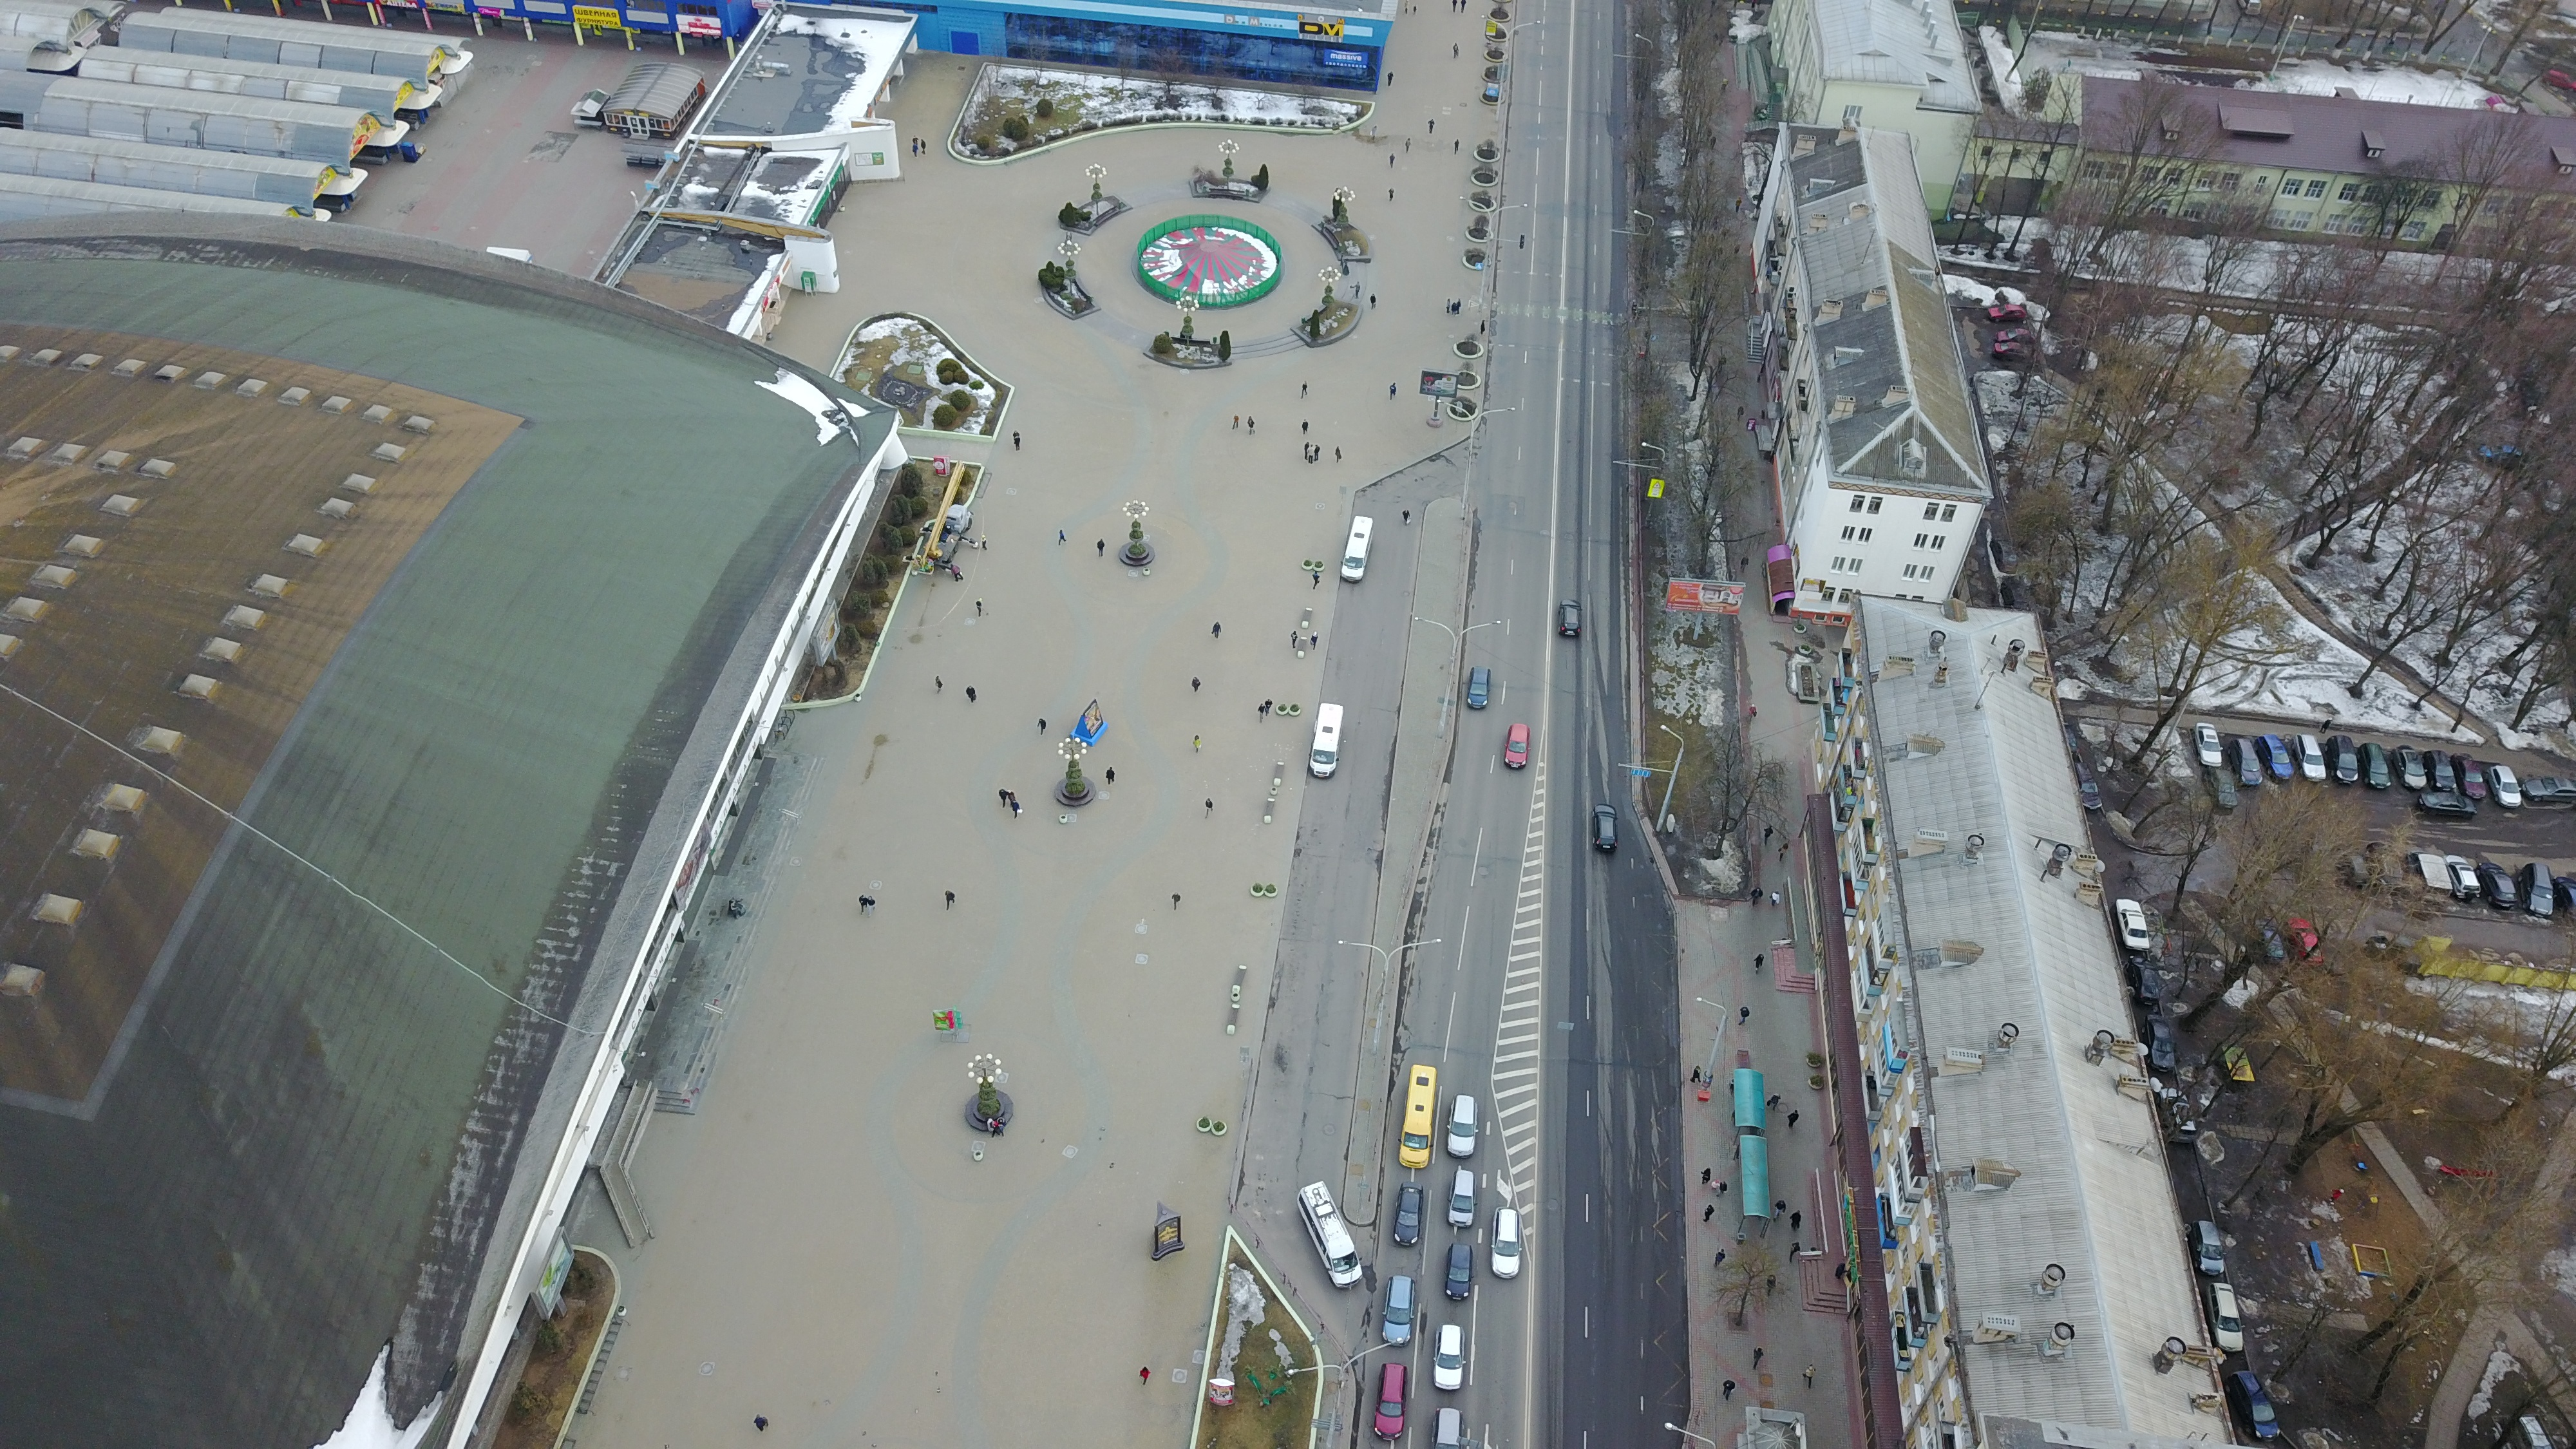car: (1369, 1359, 1410, 1440), (1378, 1272, 1419, 1346), (1488, 1205, 1523, 1281), (1431, 1322, 1467, 1394), (1445, 1090, 1483, 1159), (1389, 1180, 1426, 1247), (1442, 1166, 1481, 1230), (1585, 800, 1624, 856), (1440, 1240, 1476, 1300), (1499, 717, 1532, 771), (1463, 662, 1491, 711), (1555, 594, 1583, 642)
